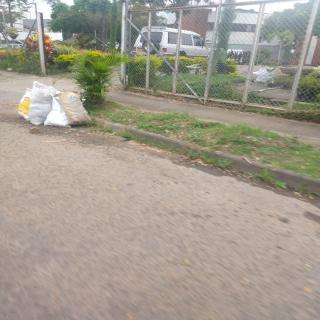Garbage: (57, 90, 93, 126), (29, 80, 52, 125), (47, 91, 72, 128), (17, 84, 34, 120)
